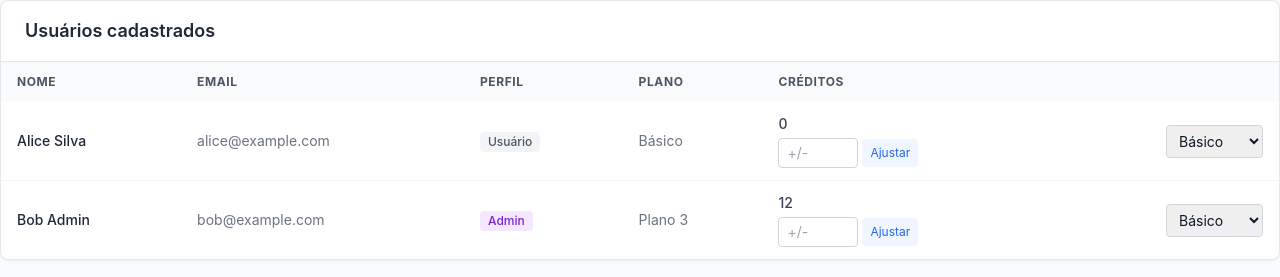
UserManagement component › exibe mensagem de erro quando updateUserPlan falha
Step 1. Select "Premium" in the dropdown named "Alterar plano de Alice Silva" → (1214, 141), box [1166, 124, 1263, 158]
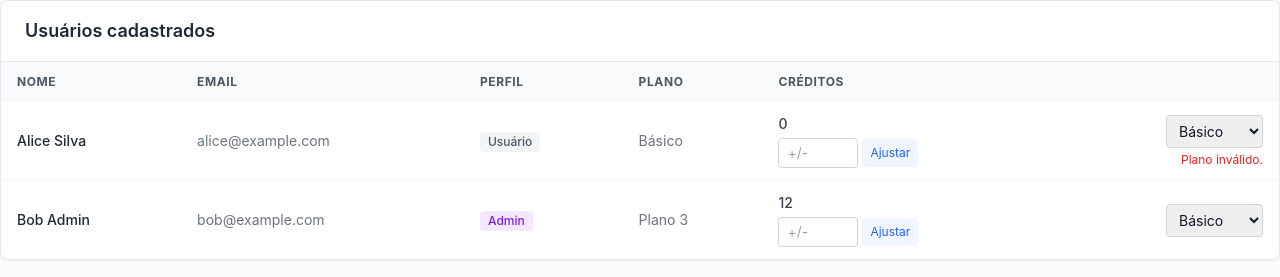
Expected: the text "Plano inválido." is shown, [1181, 152, 1263, 168]
